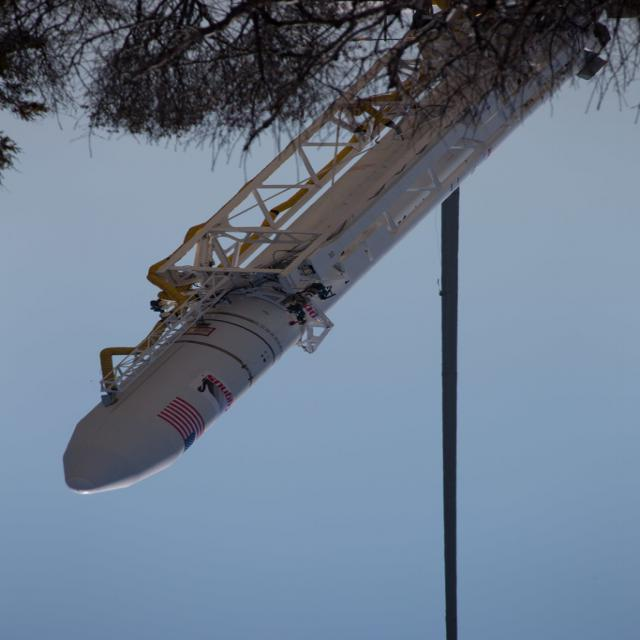missile: (64, 0, 622, 496)
